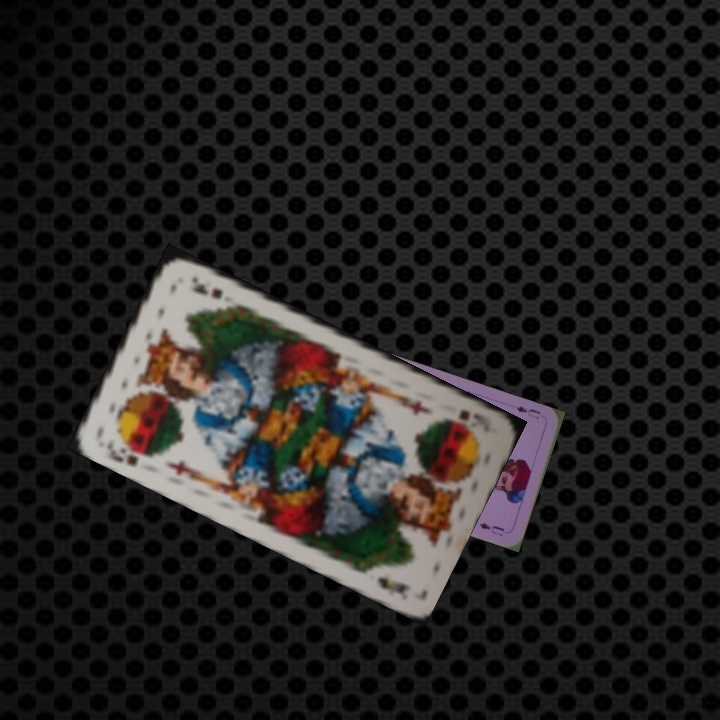EU: (512, 402, 543, 422)
SK: (102, 434, 155, 469), (455, 405, 494, 435)
